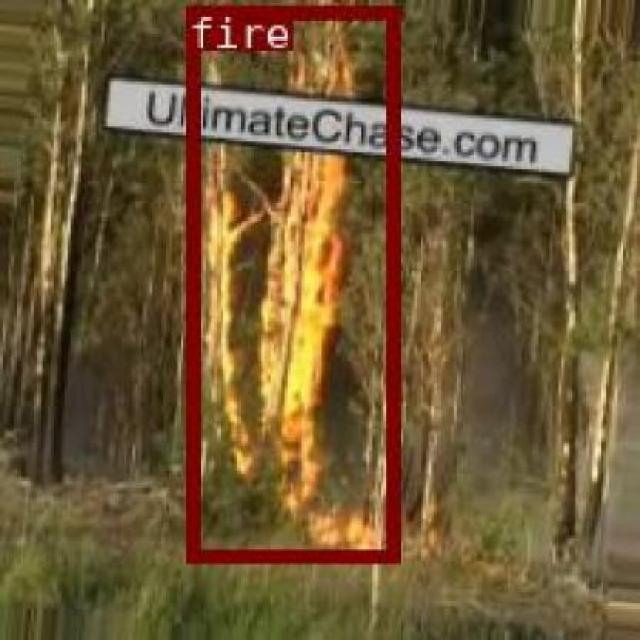Fire: (184, 4, 396, 560)
